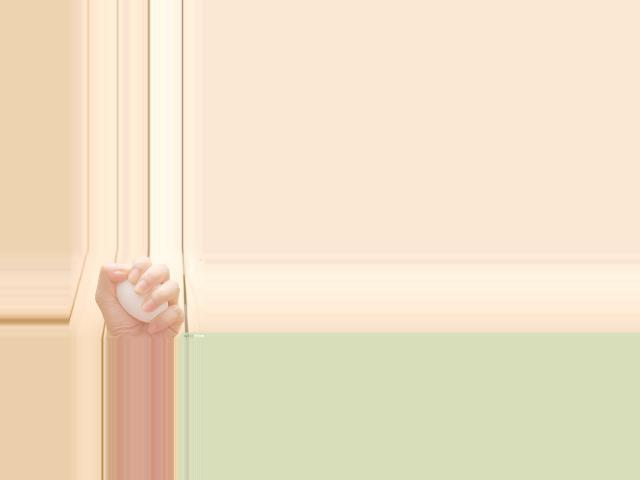egg: (116, 280, 169, 323)
